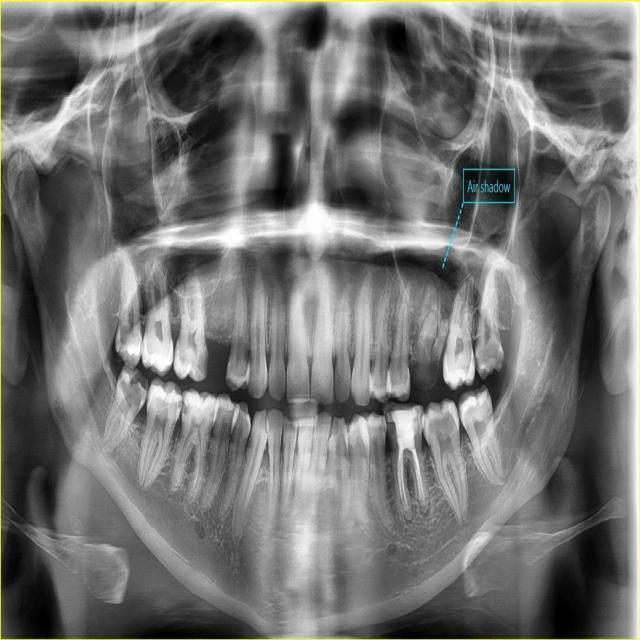Caries: (428, 402, 456, 436), (124, 370, 148, 404), (481, 342, 502, 377), (193, 345, 209, 380), (116, 323, 129, 351), (386, 419, 397, 451), (474, 350, 483, 367), (242, 342, 249, 363), (226, 360, 233, 378), (183, 399, 190, 417), (146, 386, 152, 407), (176, 395, 182, 411)
Filling: (393, 408, 418, 451)
Missing teeth: (202, 336, 231, 385)
Periapical lesion: (416, 493, 438, 527), (400, 506, 421, 536)
Root Canal Treatment: (411, 446, 425, 501), (401, 452, 407, 509), (398, 449, 403, 500)
Root Piece: (412, 275, 439, 391), (413, 306, 441, 381), (427, 311, 449, 389)
